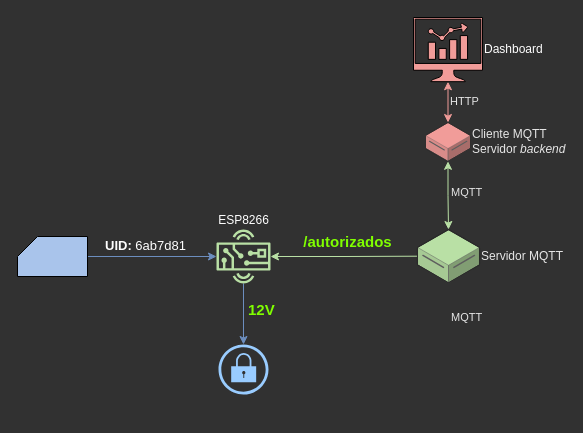
This 583x433 diagram has some shape labels left out. Each missing label, with the box of its shape:
Fechadura Elétrica: (218, 344, 268, 394)
Leitor RFID Entrada: (16, 236, 88, 276)
